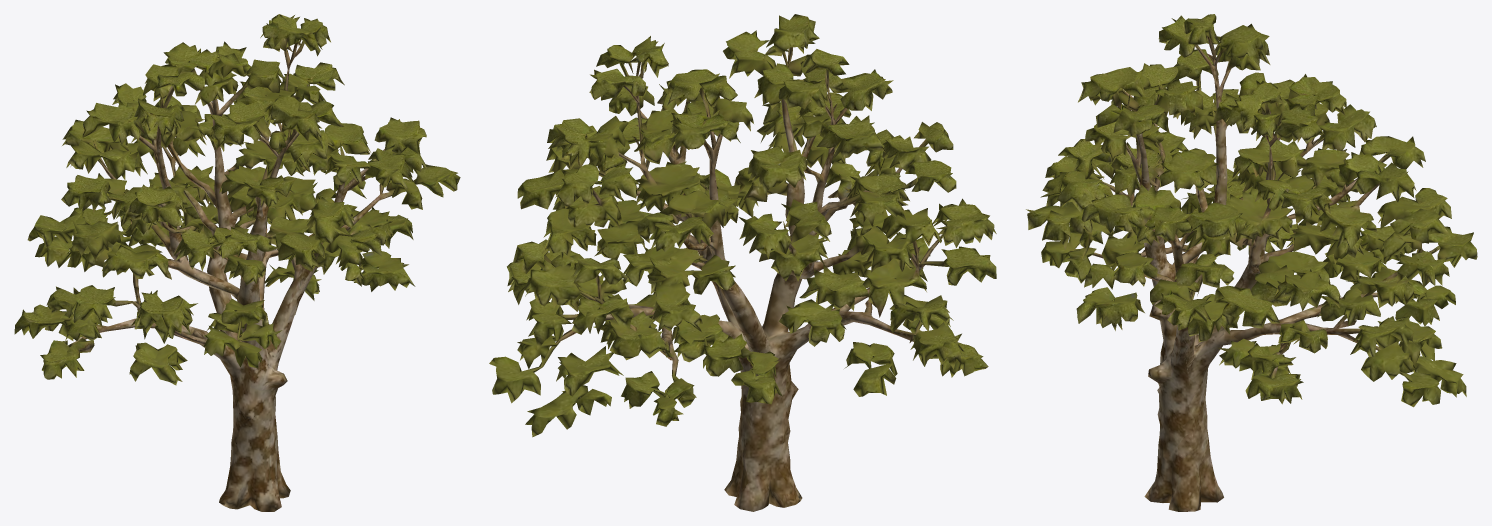
Rendered from tree-01-plane-green.glb.
3 views of the same model, side by side, from view 1: azimuth 30°, elevation 25°; view 2: azimuth 150°, elevation 25°; view 3: azimuth 270°, elevation 25° (orthographic). The views are drawn at different scales.
Visible parts, largest first — view 1: tripo_node_5fb68bfa-a73e-44a5-83ae-fa2af5007a8b; view 2: tripo_node_5fb68bfa-a73e-44a5-83ae-fa2af5007a8b; view 3: tripo_node_5fb68bfa-a73e-44a5-83ae-fa2af5007a8b.
Part boxes in pixels (<box>): tripo_node_5fb68bfa-a73e-44a5-83ae-fa2af5007a8b: <box>14,14,460,511</box>; tripo_node_5fb68bfa-a73e-44a5-83ae-fa2af5007a8b: <box>489,14,996,511</box>; tripo_node_5fb68bfa-a73e-44a5-83ae-fa2af5007a8b: <box>1026,14,1477,511</box>.
Size of the model in its own units: 0.998 by 1 by 0.9188.
Materials: 1 (1 with a texture image).
